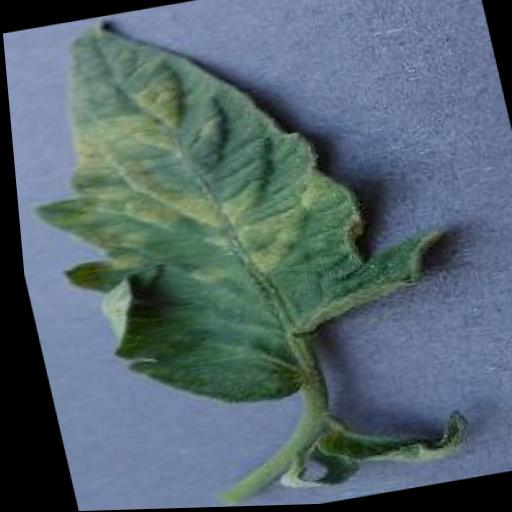Leaf Mold: (0, 0, 474, 436)
